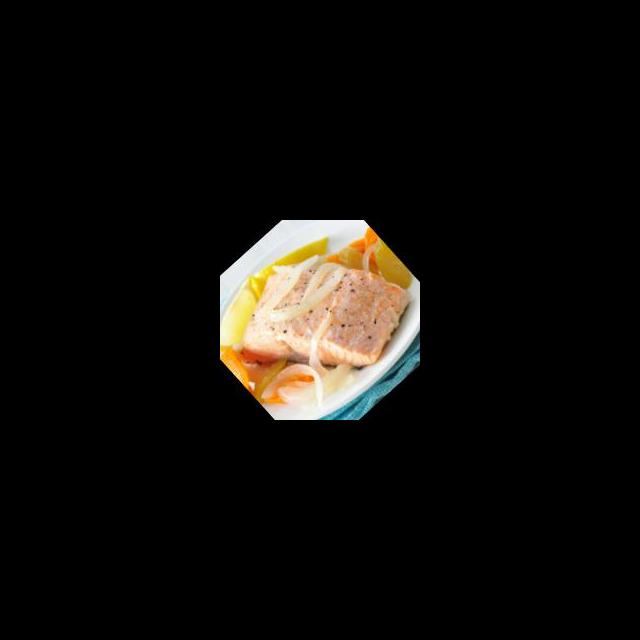ca hoi: (262, 231, 420, 401), (220, 243, 354, 384)
